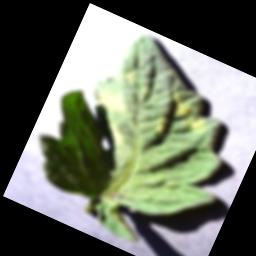Leaf_Mold: (90, 82, 131, 114), (165, 90, 198, 124), (102, 121, 129, 148), (186, 111, 211, 136), (152, 115, 168, 135)
